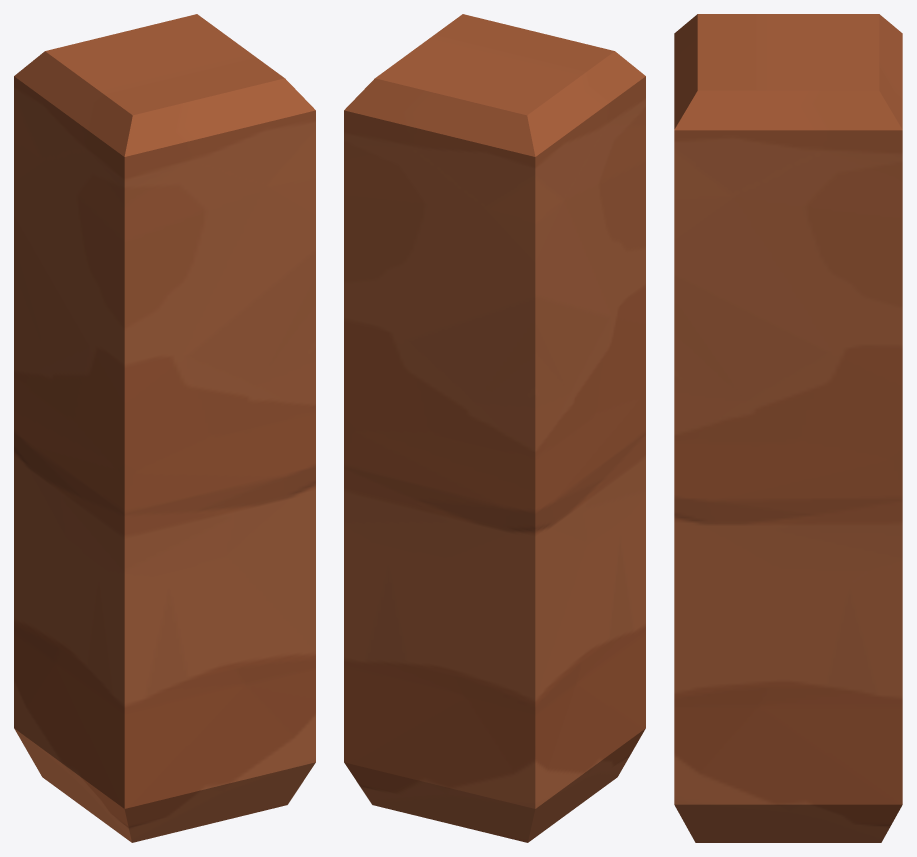
File: SM_Bld_Wall_Balcony_Pillar_Ground_02.fbx
3 views of the same model, side by side, from view 1: azimuth 30°, elevation 25°; view 2: azimuth 150°, elevation 25°; view 3: azimuth 270°, elevation 25° (orthographic). The views are drawn at different scales.
Parts seen in each view (by area): view 1: SM_Bld_Wall_Balcony_Pillar_Ground_02; view 2: SM_Bld_Wall_Balcony_Pillar_Ground_02; view 3: SM_Bld_Wall_Balcony_Pillar_Ground_02.
Boxes of the visible parts, box(x1,y1,x2,y2) form: SM_Bld_Wall_Balcony_Pillar_Ground_02: box(14, 14, 315, 842); SM_Bld_Wall_Balcony_Pillar_Ground_02: box(344, 14, 645, 842); SM_Bld_Wall_Balcony_Pillar_Ground_02: box(674, 14, 902, 842).
Size of the model in its own units: 28.49 by 103 by 28.49.
